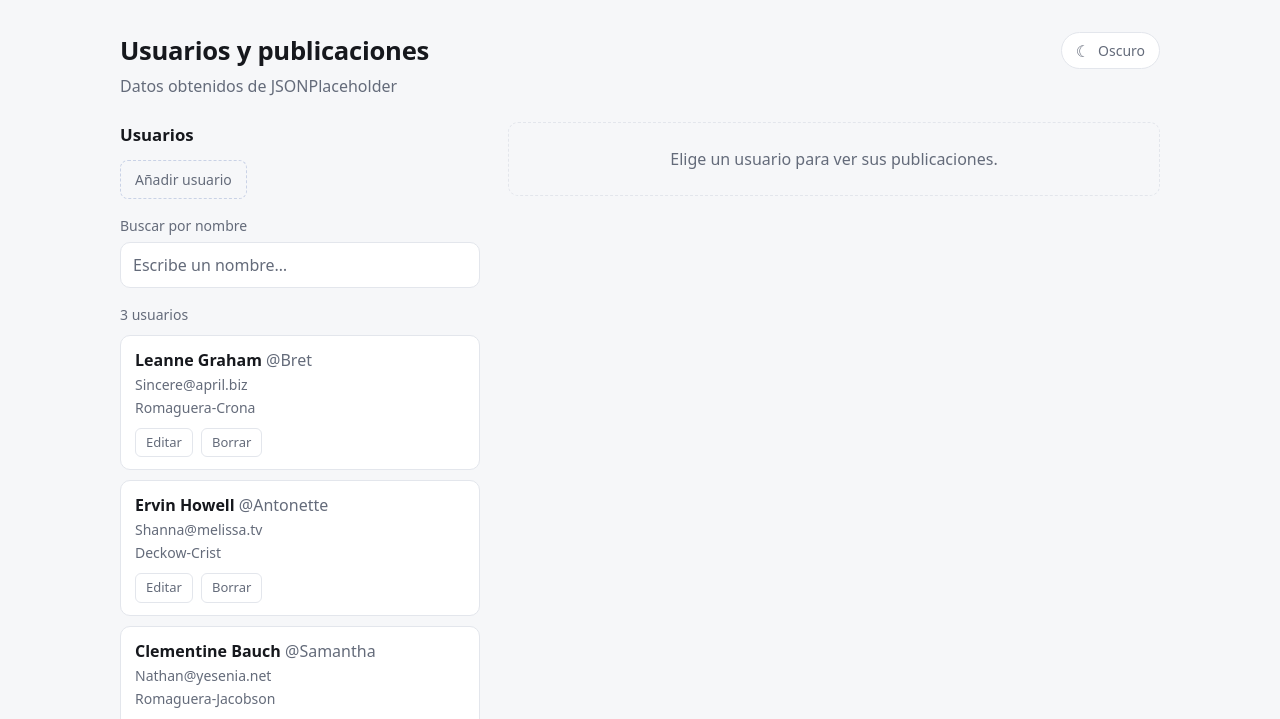
App › pide confirmación antes de borrar y luego la quita de la lista
The width and height of the screenshot is (1280, 719).
Click the button with aria-label "ver publicaciones de leanne graham" at (198, 360), box [135,348,465,418]
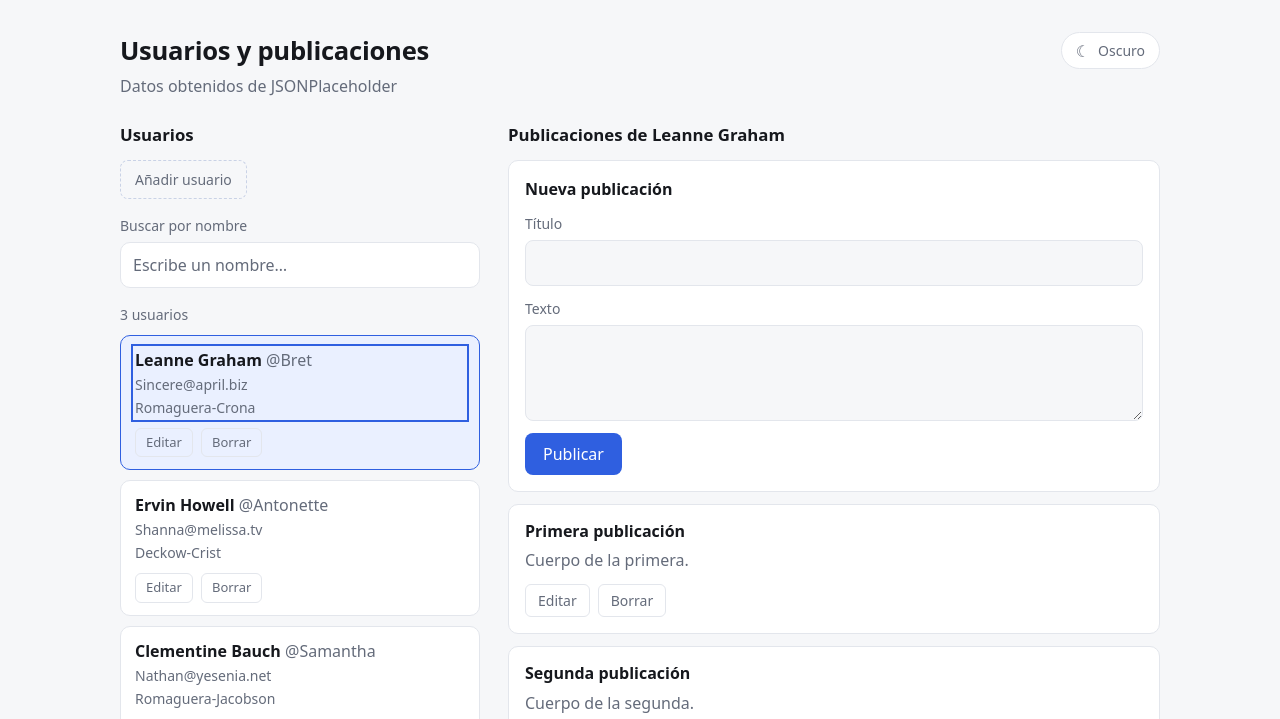
Expected: the heading "Primera publicación" is shown, [525,520,685,542]
Click the button with aria-label "borrar: primera publicación" at (632, 601), box [598,584,666,617]
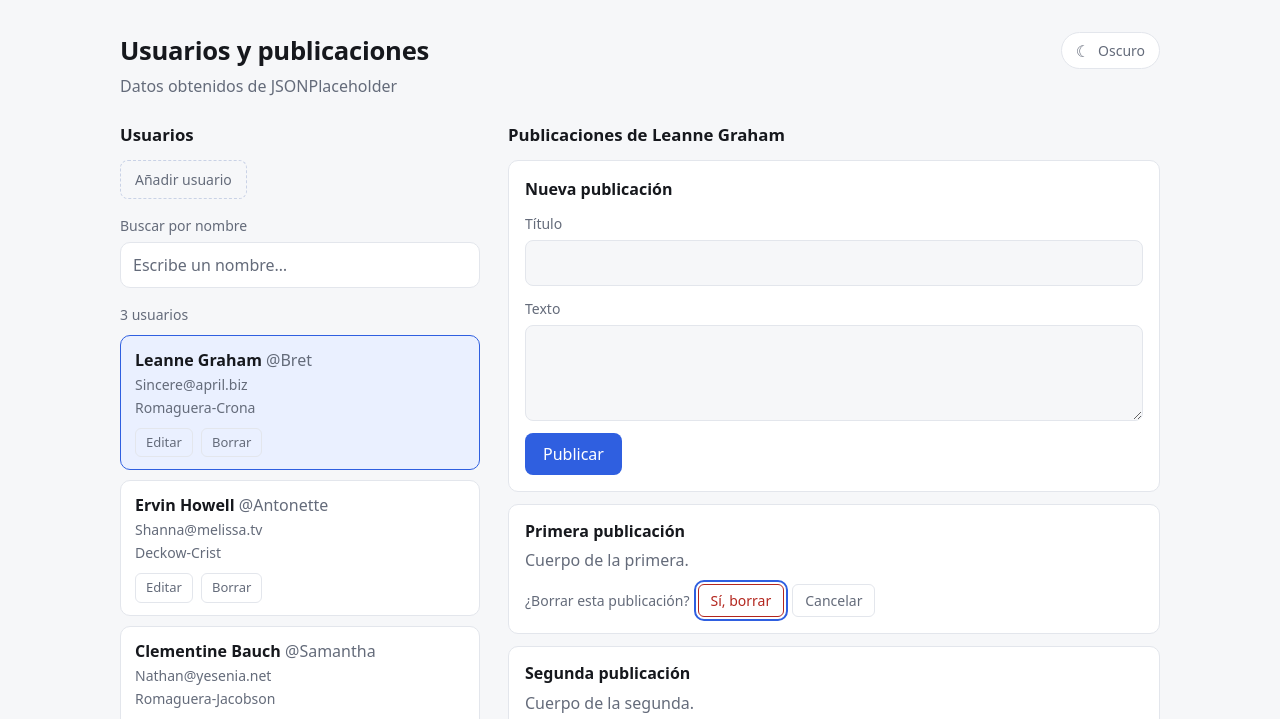
Expected: the heading "Primera publicación" is shown, [525,520,685,542]
Expected: the text "¿Borrar esta publicación?" is shown, [525,590,690,611]
Click the button "Sí, borrar" at (741, 601), box [698,584,784,617]
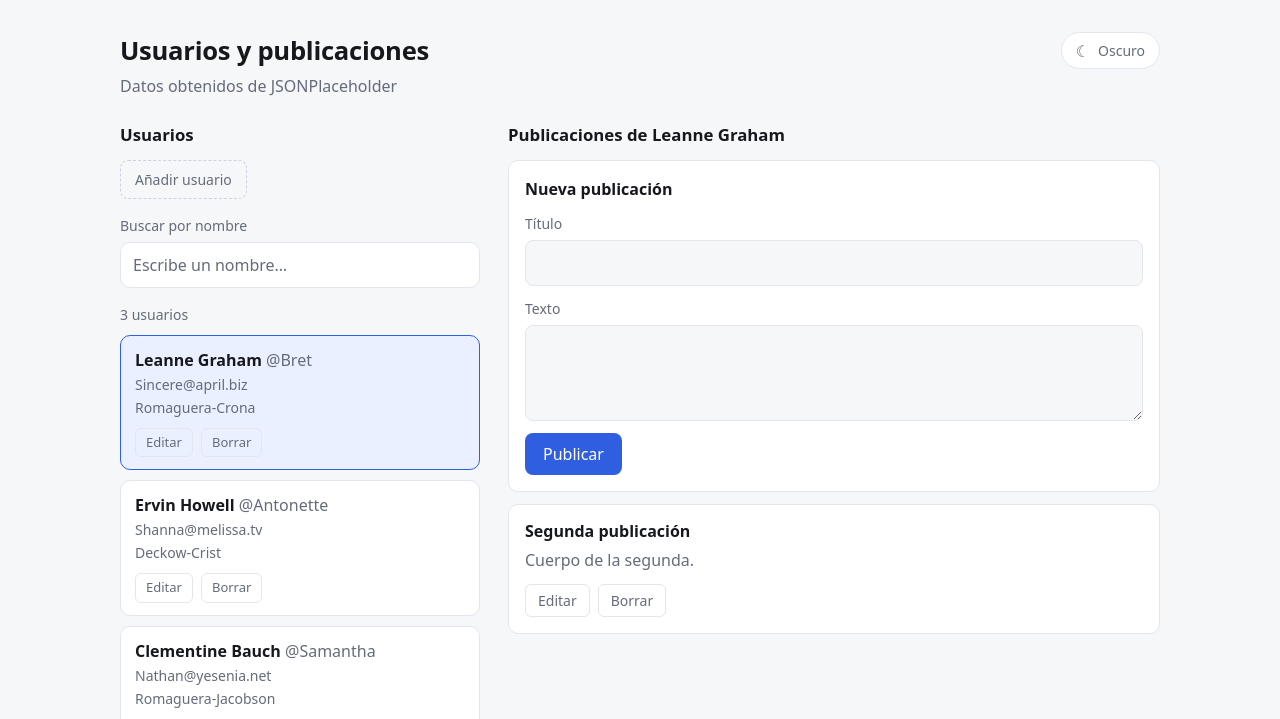
Expected: the heading "Segunda publicación" is shown, [525,520,690,542]
Expected: the heading "Primera publicación" is gone
